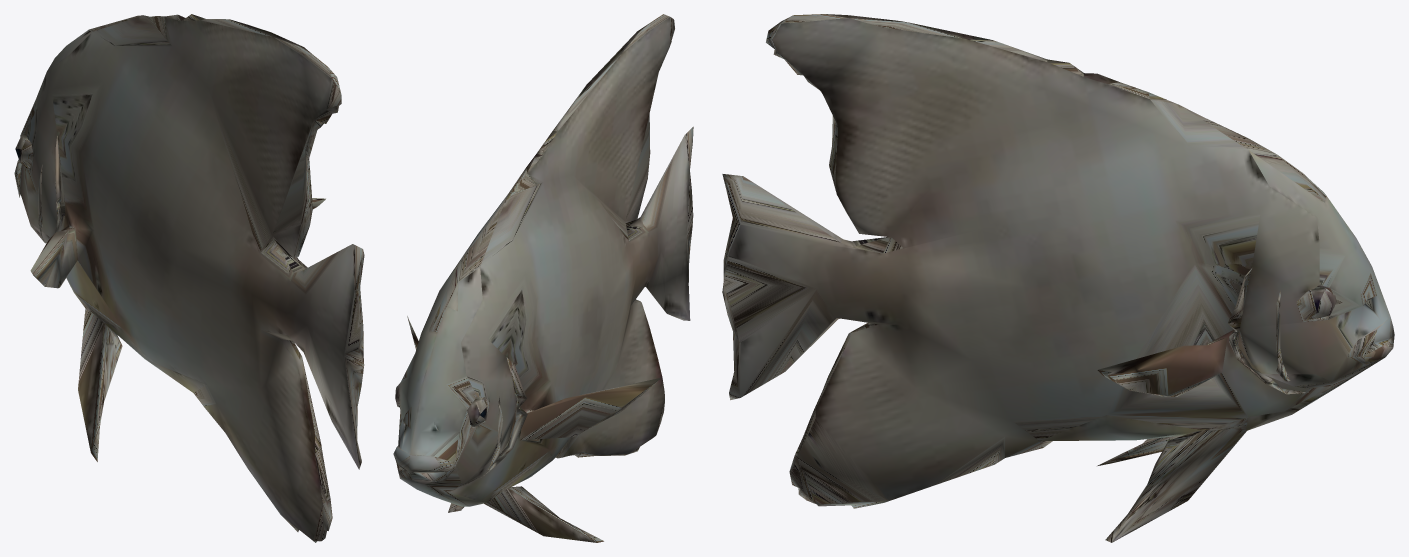
The model's file is batvis-ver.glb.
3 views of the same model, side by side, from view 1: azimuth 30°, elevation 25°; view 2: azimuth 150°, elevation 25°; view 3: azimuth 270°, elevation 25° (orthographic). The views are drawn at different scales.
Parts seen in each view (by area): view 1: tripo_node_885b0633-f7cc-4555-8719-edf870dd76ba; view 2: tripo_node_885b0633-f7cc-4555-8719-edf870dd76ba; view 3: tripo_node_885b0633-f7cc-4555-8719-edf870dd76ba.
Boxes of the visible parts, x1=… form: tripo_node_885b0633-f7cc-4555-8719-edf870dd76ba: x1=14, y1=14, x2=364, y2=542; tripo_node_885b0633-f7cc-4555-8719-edf870dd76ba: x1=393, y1=14, x2=693, y2=542; tripo_node_885b0633-f7cc-4555-8719-edf870dd76ba: x1=722, y1=14, x2=1394, y2=542.
Bounding box in the file's own units: 0.1215 × 0.1917 × 0.236.
1 material, 1 textured.
